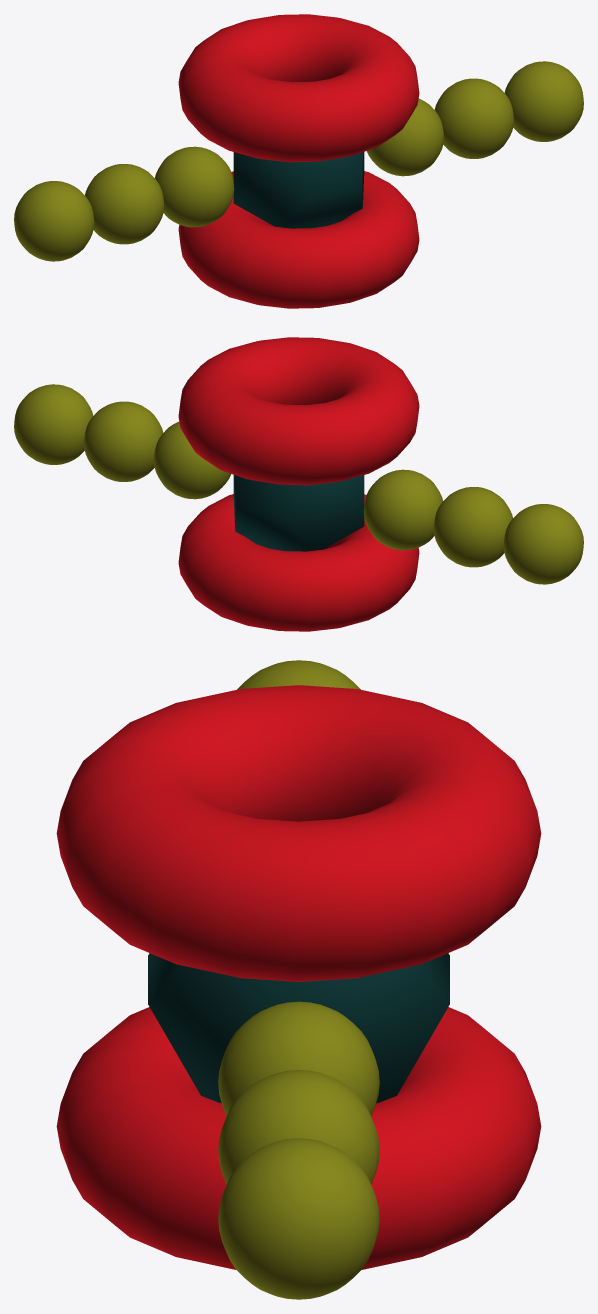
File: Monster2.fbx
3 renders of one model, top to bottom at view 1: azimuth 30°, elevation 25°; view 2: azimuth 150°, elevation 25°; view 3: azimuth 270°, elevation 25°, orthographic. The views are drawn at different scales.
Visible parts, largest first — view 1: pTorus2, pTorus1, pSolid1, pSphere6, pSphere2, pSphere3, pSphere4, pSphere5, pSphere1; view 2: pTorus2, pTorus1, pSolid1, pSphere6, pSphere2, pSphere3, pSphere4, pSphere5, pSphere1; view 3: pTorus2, pTorus1, pSolid1, pSphere5, pSphere4, pSphere1, pSphere6.
Boxes of the visible parts, x1,y1,x2,y2 form: pTorus2: [178, 14, 419, 162]; pTorus1: [178, 171, 419, 308]; pSolid1: [233, 152, 364, 228]; pSphere6: [14, 181, 94, 261]; pSphere2: [155, 146, 234, 227]; pSphere3: [85, 164, 164, 244]; pSphere4: [434, 78, 513, 158]; pSphere5: [504, 61, 583, 141]; pSphere1: [366, 98, 443, 176]; pTorus2: [178, 337, 419, 485]; pTorus1: [178, 494, 419, 631]; pSolid1: [233, 475, 364, 551]; pSphere6: [503, 504, 583, 584]; pSphere2: [363, 469, 442, 550]; pSphere3: [433, 487, 512, 567]; pSphere4: [84, 401, 163, 481]; pSphere5: [14, 384, 93, 464]; pSphere1: [154, 421, 231, 499]; pTorus2: [56, 685, 541, 981]; pTorus1: [56, 1007, 541, 1269]; pSolid1: [148, 953, 449, 1103]; pSphere5: [218, 1138, 379, 1299]; pSphere4: [218, 1070, 379, 1184]; pSphere1: [218, 1001, 379, 1115]; pSphere6: [237, 660, 360, 689].
Size of the model in its own units: 8 by 3 by 3.
